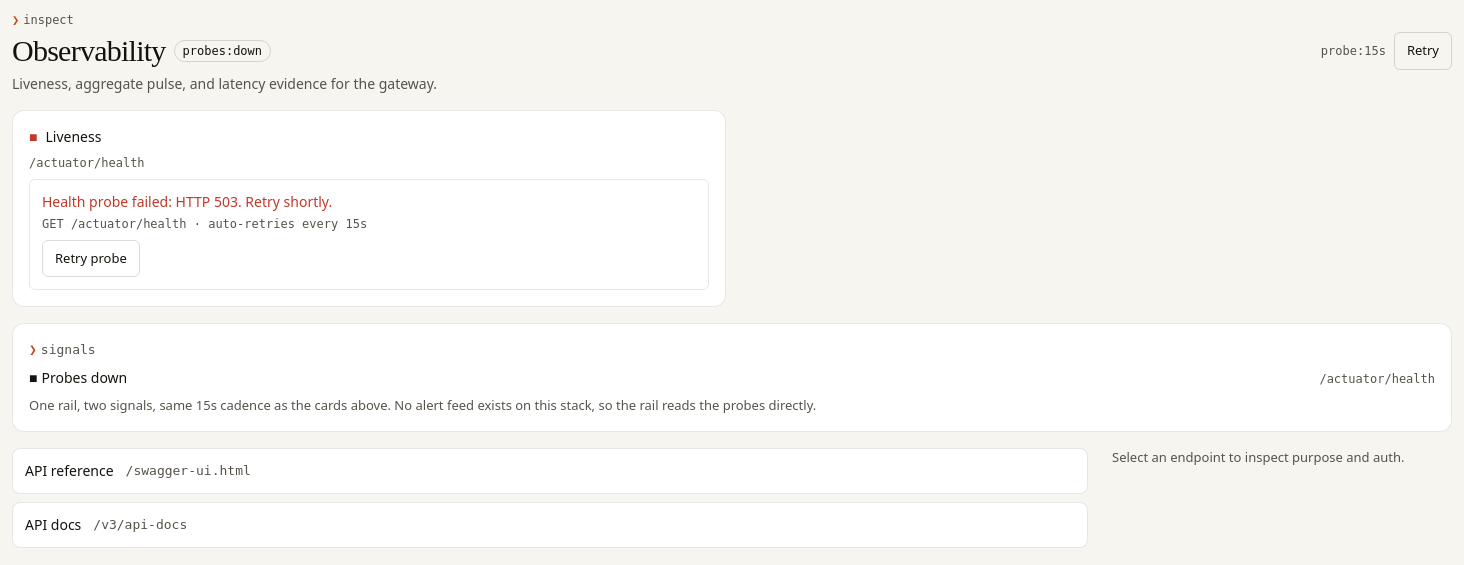
Test case: ObservabilityPage › retries one probe without disturbing the other
The image size is (1464, 565).
Click the button "Retry probe" at (91, 258), box [42,240,140,277]
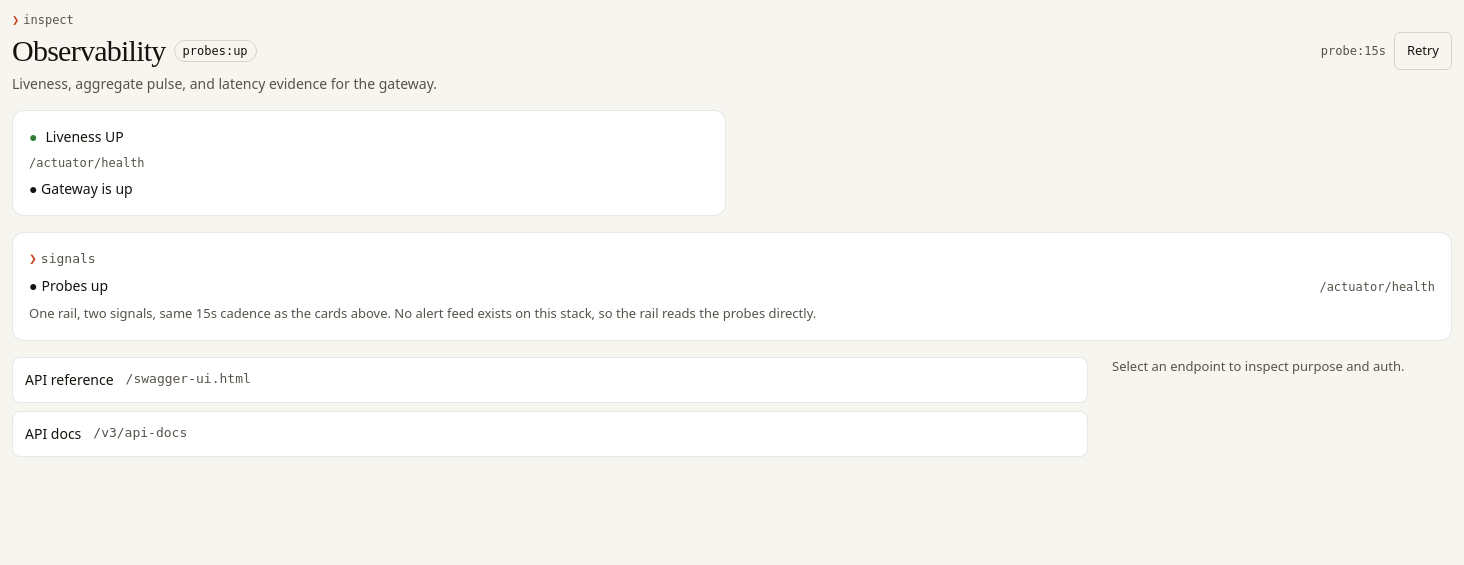
expect the text "● Gateway is up" is shown: met, box [29,178,133,198]
